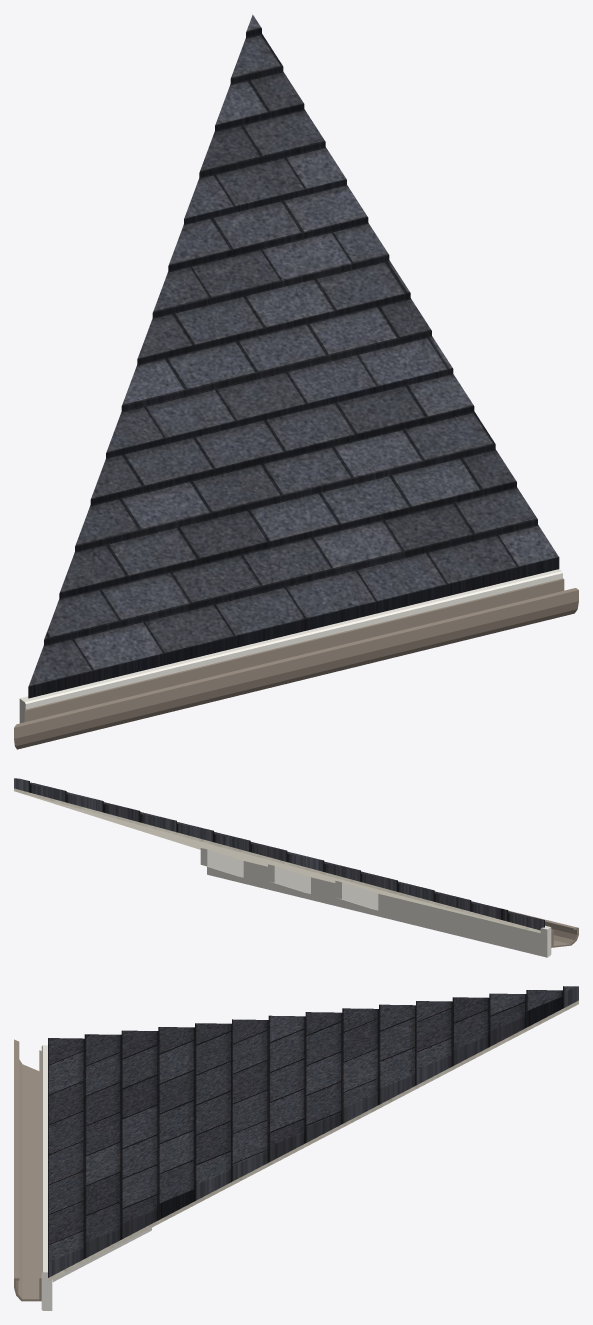
File: roof_main_6_l.glb
The picture shows the model from 3 angles, top to bottom: view 1: azimuth 30°, elevation 25°; view 2: azimuth 150°, elevation 25°; view 3: azimuth 270°, elevation 25°; orthographic projection. The views are drawn at different scales.
Parts seen in each view (by area): view 1: roof_main_6_l_shingles, roof_main_6_l_gutter, roof_main_6_l_trim; view 2: roof_main_6_l_trim, roof_main_6_l_shingles, roof_main_6_l_plaster, roof_main_6_l_gutter; view 3: roof_main_6_l_shingles, roof_main_6_l_gutter, roof_main_6_l_plaster, roof_main_6_l_trim.
Boxes of the visible parts, x1,y1,x2,y2 form: roof_main_6_l_shingles: (28, 14, 559, 698); roof_main_6_l_gutter: (14, 578, 578, 749); roof_main_6_l_trim: (19, 569, 562, 723); roof_main_6_l_trim: (200, 848, 551, 957); roof_main_6_l_shingles: (14, 778, 544, 930); roof_main_6_l_plaster: (14, 788, 540, 933); roof_main_6_l_gutter: (508, 910, 578, 947); roof_main_6_l_shingles: (48, 986, 578, 1277); roof_main_6_l_gutter: (14, 1039, 41, 1301); roof_main_6_l_plaster: (48, 1000, 578, 1281); roof_main_6_l_trim: (41, 1045, 151, 1310).
Bounding box in the file's own units: 2.66 × 1.69 × 2.66.
Materials: 4 (2 with a texture image).
